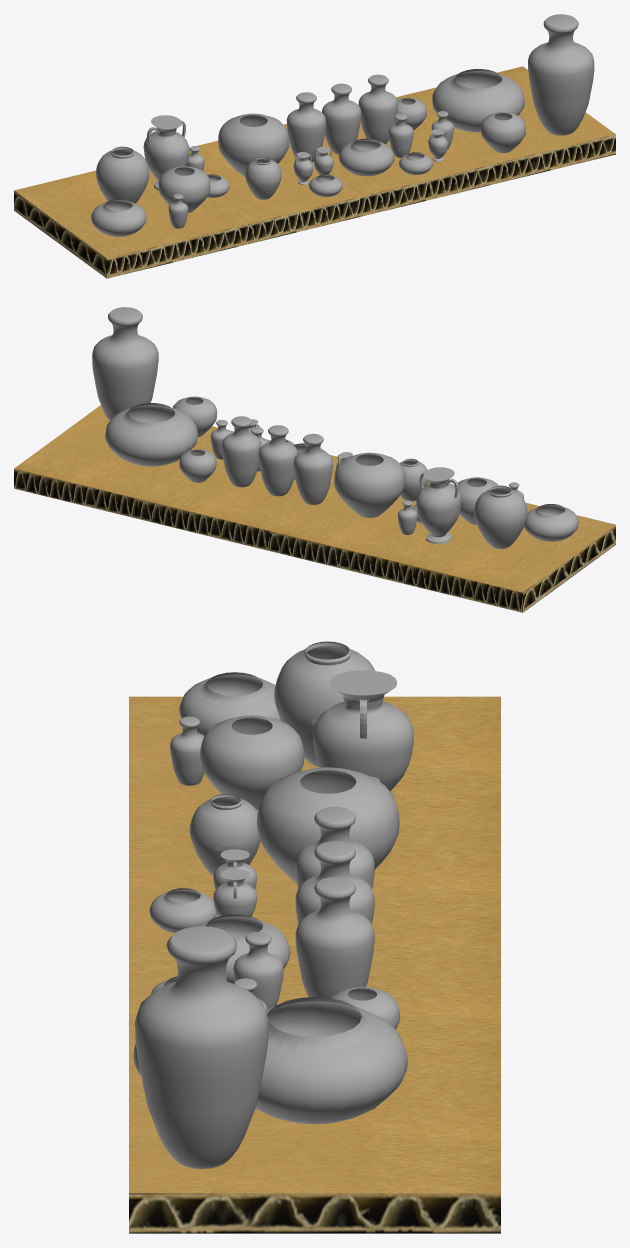
The model's file is Ancient Decorated Platform 2.fbx.
The picture shows the model from 3 angles, top to bottom: view 1: azimuth 30°, elevation 25°; view 2: azimuth 150°, elevation 25°; view 3: azimuth 270°, elevation 25°; orthographic projection. The views are drawn at different scales.
Visible parts, largest first — view 1: Platform_5_1, Platform_5_2, Platform_5_4, Platform_5_3, Ancient_Storage_Vase_5_24, Ancient_Storage_Vase_5_22, Ancient_Storage_Vase_5_09, Ancient_Storage_Vase_5_02, Ancient_Storage_Vase_5_05, Ancient_Storage_Vase_5_17, Ancient_Storage_Vase_5_15, Ancient_Storage_Vase_5_13 (+15 smaller); view 2: Platform_5_1, Platform_5_4, Platform_5_2, Platform_5_3, Ancient_Storage_Vase_5_24, Ancient_Storage_Vase_5_22, Ancient_Storage_Vase_5_09, Ancient_Storage_Vase_5_05, Ancient_Storage_Vase_5_02, Ancient_Storage_Vase_5_13, Ancient_Storage_Vase_5_17, Ancient_Storage_Vase_5_15 (+7 smaller); view 3: Platform_5_4, Platform_5_2, Ancient_Storage_Vase_5_24, Platform_5_1, Platform_5_3, Ancient_Storage_Vase_5_22, Ancient_Storage_Vase_5_09, Ancient_Storage_Vase_5_05, Ancient_Storage_Vase_5_17, Ancient_Storage_Vase_5_04, Ancient_Storage_Vase_5_02, Ancient_Storage_Vase_5_01 (+10 smaller).
Boxes of the visible parts, x1,y1,x2,y2 form: Platform_5_1: (14, 159, 237, 278); Platform_5_2: (145, 141, 361, 248); Platform_5_4: (396, 66, 615, 185); Platform_5_3: (284, 121, 490, 216); Ancient_Storage_Vase_5_24: (528, 14, 594, 135); Ancient_Storage_Vase_5_22: (432, 69, 524, 132); Ancient_Storage_Vase_5_09: (218, 113, 289, 177); Ancient_Storage_Vase_5_02: (96, 146, 149, 203); Ancient_Storage_Vase_5_05: (143, 115, 189, 190); Ancient_Storage_Vase_5_17: (358, 74, 397, 143); Ancient_Storage_Vase_5_15: (322, 83, 361, 154); Ancient_Storage_Vase_5_13: (286, 92, 326, 162); Platform_5_1: (392, 503, 615, 612); Platform_5_4: (14, 405, 233, 520); Platform_5_2: (268, 480, 429, 582); Platform_5_3: (139, 431, 341, 550); Ancient_Storage_Vase_5_24: (92, 307, 158, 420); Ancient_Storage_Vase_5_22: (105, 403, 197, 466); Ancient_Storage_Vase_5_09: (334, 452, 405, 517); Ancient_Storage_Vase_5_05: (416, 467, 461, 544); Ancient_Storage_Vase_5_02: (474, 485, 527, 548); Ancient_Storage_Vase_5_13: (293, 433, 332, 504); Ancient_Storage_Vase_5_17: (222, 416, 261, 487); Ancient_Storage_Vase_5_15: (258, 425, 297, 496); Platform_5_4: (129, 1065, 500, 1233); Platform_5_2: (129, 817, 500, 944); Ancient_Storage_Vase_5_24: (135, 926, 268, 1168); Platform_5_1: (129, 696, 500, 824); Platform_5_3: (129, 945, 500, 1069); Ancient_Storage_Vase_5_22: (255, 997, 407, 1124); Ancient_Storage_Vase_5_09: (256, 767, 399, 882); Ancient_Storage_Vase_5_05: (313, 670, 413, 791); Ancient_Storage_Vase_5_17: (295, 877, 374, 998); Ancient_Storage_Vase_5_04: (200, 715, 304, 809); Ancient_Storage_Vase_5_02: (274, 641, 374, 767); Ancient_Storage_Vase_5_01: (179, 672, 280, 735).
Size of the model in its own units: 42.22 by 10.26 by 13.37.
2 materials, 1 textured.
